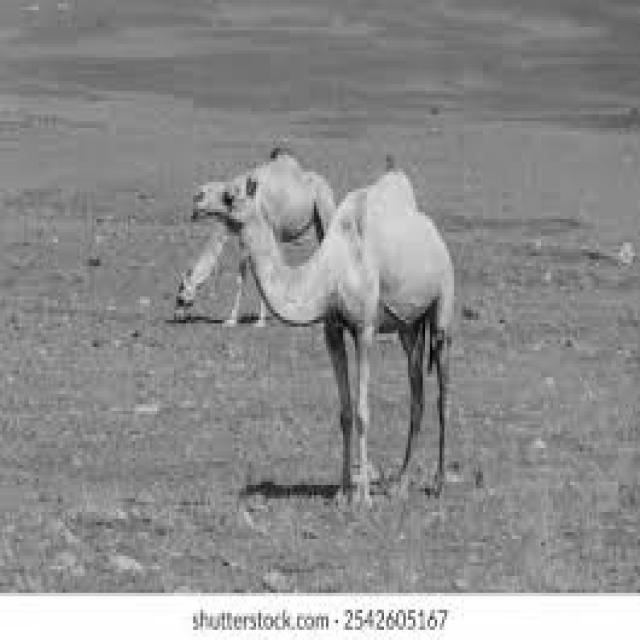Camel: (181, 148, 457, 509), (172, 145, 336, 327)
